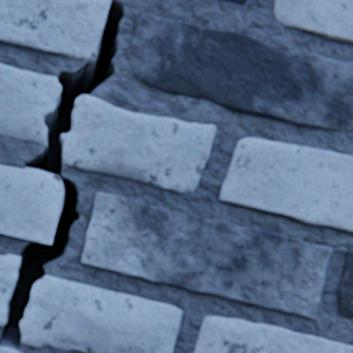brick: (81, 192, 330, 318), (127, 13, 352, 131), (218, 138, 352, 232), (0, 0, 110, 59), (193, 316, 352, 352), (0, 165, 62, 244), (273, 0, 352, 44), (336, 252, 352, 318), (0, 346, 21, 352)
broken_brick: (61, 95, 215, 193), (20, 275, 181, 352), (0, 64, 61, 145), (0, 254, 20, 325), (217, 0, 245, 6)
crack: (0, 1, 123, 350)
